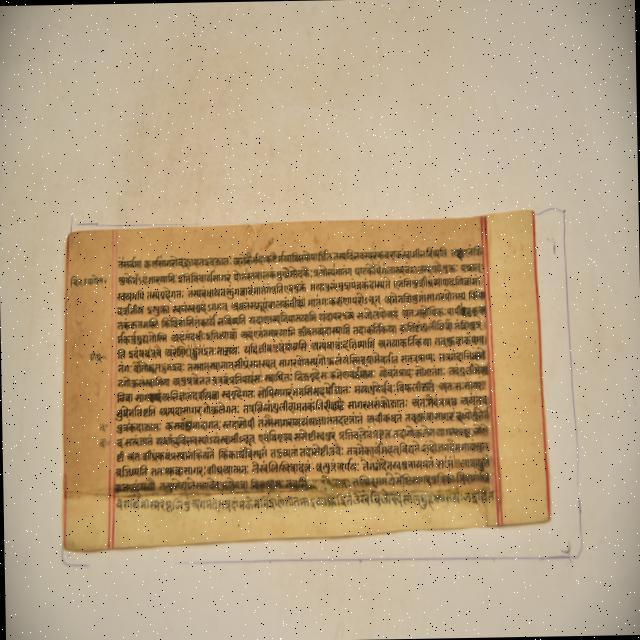text_paragraph: (61, 211, 552, 550)
